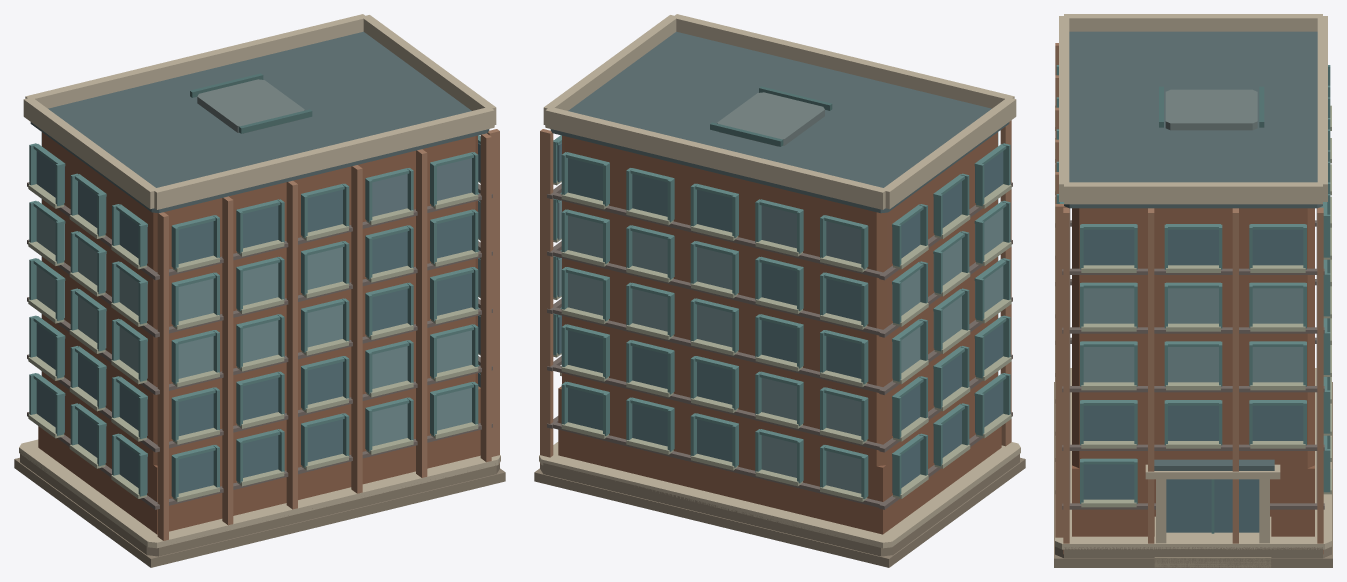
3 renders of one model, left to right at view 1: azimuth 30°, elevation 25°; view 2: azimuth 150°, elevation 25°; view 3: azimuth 270°, elevation 25°, orthographic. The views are drawn at different scales.
Visible parts, largest first — view 1: form, relief, glaze, glowing; view 2: form, relief, glaze, glowing; view 3: form, glaze, relief, glowing.
Boxes of the visible parts, x1=… form: form: x1=14, y1=14, x2=505, y2=567; relief: x1=28, y1=132, x2=480, y2=501; glaze: x1=36, y1=143, x2=480, y2=493; glowing: x1=119, y1=247, x2=407, y2=446; form: x1=534, y1=14, x2=1025, y2=567; relief: x1=553, y1=132, x2=1011, y2=501; glaze: x1=557, y1=143, x2=1003, y2=493; glowing: x1=557, y1=200, x2=1003, y2=477; form: x1=1054, y1=14, x2=1332, y2=567; glaze: x1=1083, y1=207, x2=1320, y2=532; relief: x1=1055, y1=65, x2=1331, y2=533; glowing: x1=1252, y1=288, x2=1303, y2=323.
Bounding box in the file's own units: 12 × 12 × 8.
